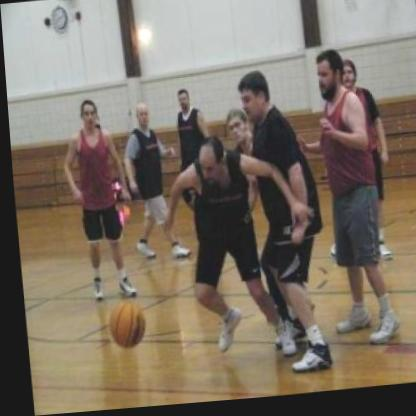basketball: (101, 301, 141, 350)
